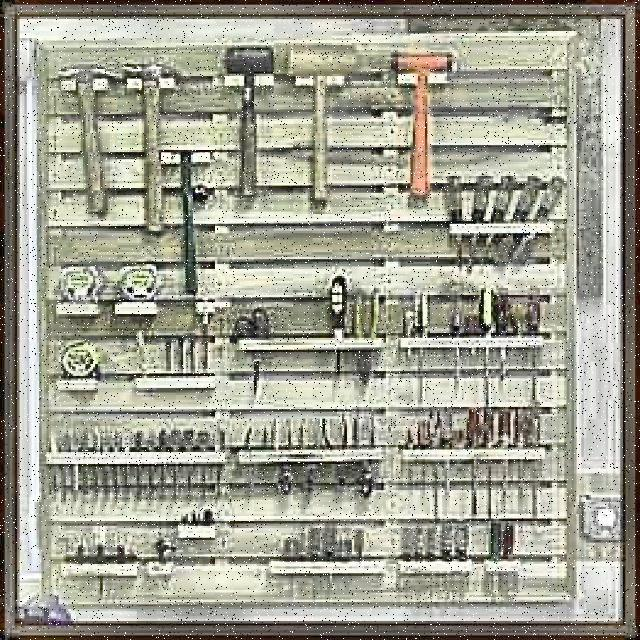hammer: (289, 45, 350, 198), (125, 62, 175, 236), (58, 64, 114, 214), (392, 54, 449, 195), (162, 150, 214, 296), (224, 47, 274, 195)
